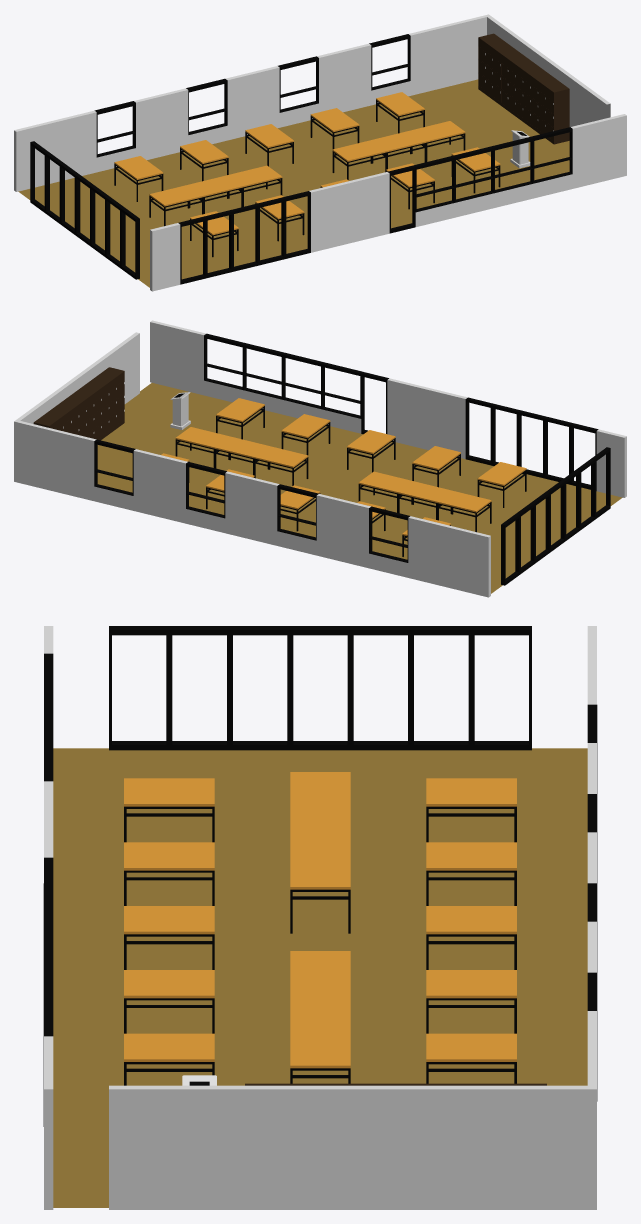
The model's file is Autonomous Studio.fbx.
3 views of the same model, one above another, from view 1: azimuth 30°, elevation 25°; view 2: azimuth 150°, elevation 25°; view 3: azimuth 270°, elevation 25° (orthographic). The views are drawn at different scales.
Parts seen in each view (by area): view 1: Plane.001, Hallway Wall.037, Hallway Wall.029, Hallway Wall.038, Hallway Wall.051, Hallway Wall.028, Hallway Wall.030, Hallway Wall.031, Hallway Wall.027, Hallway Wall.036, Hallway Wall.035, Hallway Wall.048 (+57 smaller); view 2: Plane.001, Hallway Wall.048, Hallway Wall.035, Hallway Wall.037, Hallway Wall.047, Hallway Wall.049, Hallway Wall.036, Hallway Wall.051, Hallway Wall.038, Hallway Wall.031, Hallway Wall.029, Hallway Wall.030 (+48 smaller); view 3: Plane.001, Hallway Wall.039, Hallway Wall.042, Hallway Wall.044, Hallway Wall.040, Hallway Wall.041, Hallway Wall.043, Hallway Wall.045, Hallway Wall.046, Table Type 1.017, Table Type 1.009, Table Type 1.010 (+22 smaller).
Part boxes in pixels (x1,y1,x2,y2): Plane.001: (18,79,569,287); Hallway Wall.037: (409,27,436,95); Hallway Wall.029: (335,178,363,246); Hallway Wall.038: (435,21,462,89); Hallway Wall.051: (343,43,371,111); Hallway Wall.028: (309,184,337,252); Hallway Wall.030: (361,172,389,239); Hallway Wall.031: (571,121,598,188); Hallway Wall.027: (154,223,180,290); Hallway Wall.036: (225,72,253,140); Hallway Wall.035: (160,88,188,156); Hallway Wall.048: (69,110,96,178); Plane.001: (97,383,622,593); Hallway Wall.048: (408,516,436,584); Hallway Wall.035: (316,494,344,561); Hallway Wall.037: (68,433,96,500); Hallway Wall.047: (434,522,462,590); Hallway Wall.049: (225,471,253,539); Hallway Wall.036: (251,478,279,545); Hallway Wall.051: (133,449,161,517); Hallway Wall.038: (42,427,69,494); Hallway Wall.031: (178,327,205,395); Hallway Wall.029: (413,385,441,450); Hallway Wall.030: (387,378,415,446); Plane.001: (53,748,587,1207); Hallway Wall.039: (169,1085,229,1209); Hallway Wall.042: (290,1085,350,1209); Hallway Wall.044: (411,1085,471,1209); Hallway Wall.040: (109,1085,169,1209); Hallway Wall.041: (230,1085,290,1209); Hallway Wall.043: (350,1085,410,1209); Hallway Wall.045: (471,1085,531,1209); Hallway Wall.046: (532,1085,591,1209); Table Type 1.017: (426,1033,516,1083); Table Type 1.009: (426,778,516,842); Table Type 1.010: (124,778,214,842).
Size of the model in its own units: 1815 by 220 by 916.
